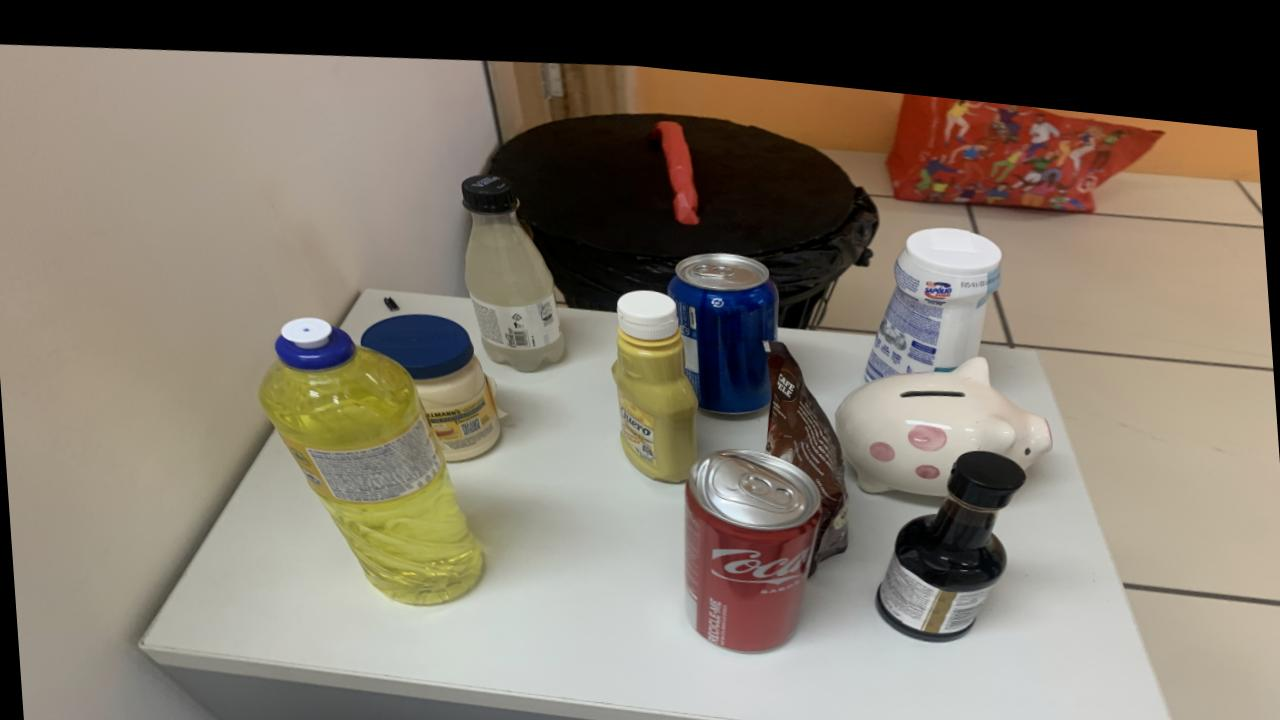Cleaner-Cleanup_Items: (865, 207, 1001, 362)
Coffee-Pantry_Items: (763, 323, 849, 557)
Coke-Drinks: (683, 432, 820, 635)
Detergent-Cleanup_Items: (259, 311, 483, 594)
English_Sauce-Pantry_Items: (876, 429, 1027, 621)
Mayonnaise-Pantry_Items: (360, 304, 501, 451)
Mustard-Pantry_Items: (611, 277, 697, 467)
Pig_Safe-Miscellaneous: (834, 335, 1052, 474)
Soda-Drinks: (461, 164, 565, 360)
Tonic-Drinks: (667, 236, 779, 397)
